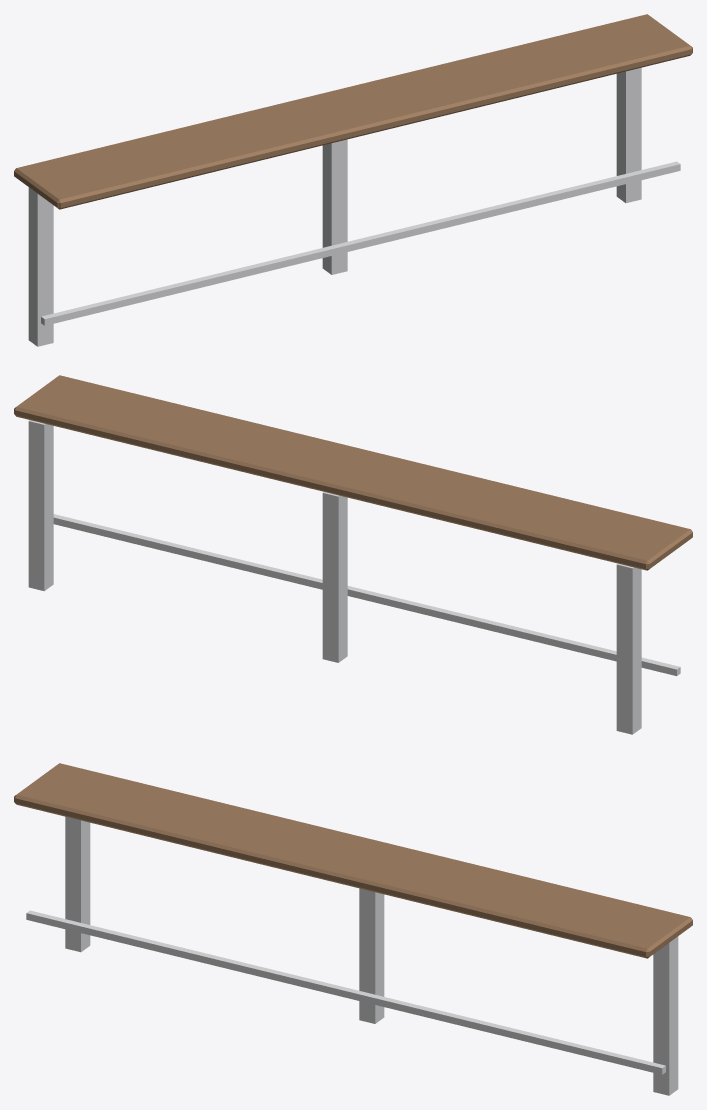
The model's file is bar-cafe.glb.
3 views of the same model, one above another, from view 1: azimuth 30°, elevation 25°; view 2: azimuth 150°, elevation 25°; view 3: azimuth 330°, elevation 25° (orthographic).
Visible parts, largest first — view 1: bar-cafe; view 2: bar-cafe; view 3: bar-cafe.
Boxes of the visible parts, x1,y1,x2,y2 form: bar-cafe: (14, 14, 692, 346); bar-cafe: (14, 375, 692, 734); bar-cafe: (14, 763, 692, 1095).
Bounding box in the file's own units: 4 × 1.06 × 0.5.
